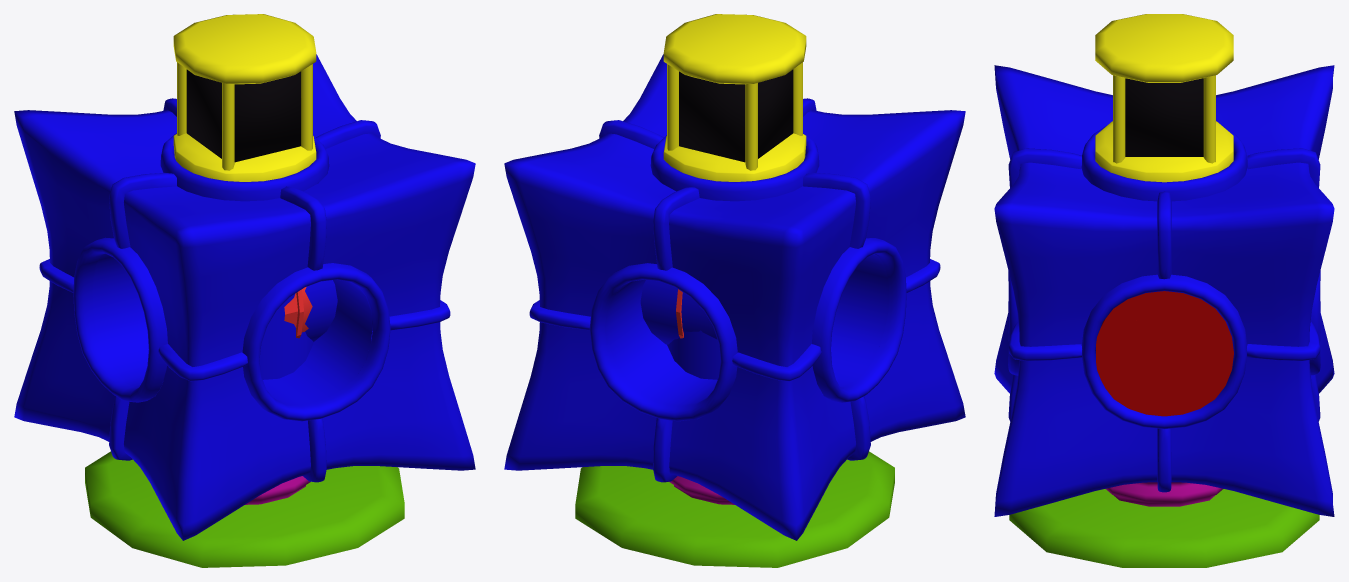
The model's file is Boss_Out_alive_Low_Poly.FBX.
3 renders of one model, left to right at view 1: azimuth 30°, elevation 25°; view 2: azimuth 150°, elevation 25°; view 3: azimuth 270°, elevation 25°, orthographic.
Parts seen in each view (by area): view 1: 1_BODY_Boss_ok, 7_Base_boss002, 5_Estructura_Cap_Boss, 6_Pantalla_Cap_Boss, Proyectil_Low_Poly, 7_Base_boss; view 2: 1_BODY_Boss_ok, 7_Base_boss002, 5_Estructura_Cap_Boss, 6_Pantalla_Cap_Boss, 7_Base_boss; view 3: 1_BODY_Boss_ok, 7_Base_boss002, 5_Estructura_Cap_Boss, 6_Pantalla_Cap_Boss, Cuart_009, Cuart_010, Cuart_012, Cuart_011, 7_Base_boss.
Part boxes in pixels (left/top/right/bottom): 1_BODY_Boss_ok: left=14, top=54, right=475, bottom=540; 7_Base_boss002: left=85, top=451, right=404, bottom=567; 5_Estructura_Cap_Boss: left=173, top=14, right=316, bottom=181; 6_Pantalla_Cap_Boss: left=186, top=69, right=300, bottom=162; Proyectil_Low_Poly: left=284, top=287, right=312, bottom=338; 7_Base_boss: left=245, top=476, right=310, bottom=504; 1_BODY_Boss_ok: left=504, top=54, right=965, bottom=540; 7_Base_boss002: left=575, top=451, right=894, bottom=567; 5_Estructura_Cap_Boss: left=663, top=14, right=806, bottom=181; 6_Pantalla_Cap_Boss: left=679, top=69, right=793, bottom=162; 7_Base_boss: left=669, top=476, right=734, bottom=504; 1_BODY_Boss_ok: left=994, top=65, right=1334, bottom=516; 7_Base_boss002: left=1009, top=489, right=1319, bottom=567; 5_Estructura_Cap_Boss: left=1095, top=14, right=1233, bottom=182; 6_Pantalla_Cap_Boss: left=1125, top=78, right=1203, bottom=156; Cuart_009: left=1096, top=308, right=1164, bottom=398; Cuart_010: left=1114, top=354, right=1214, bottom=416; Cuart_012: left=1115, top=291, right=1215, bottom=353; Cuart_011: left=1165, top=309, right=1233, bottom=399; 7_Base_boss: left=1105, top=482, right=1223, bottom=506.
Bounding box in the file's own units: 28.09 × 42.25 × 28.09.
